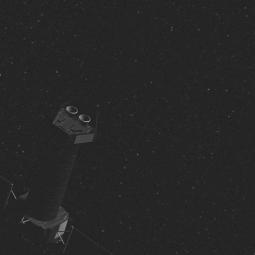xmm_newton: (0, 93, 114, 255)
